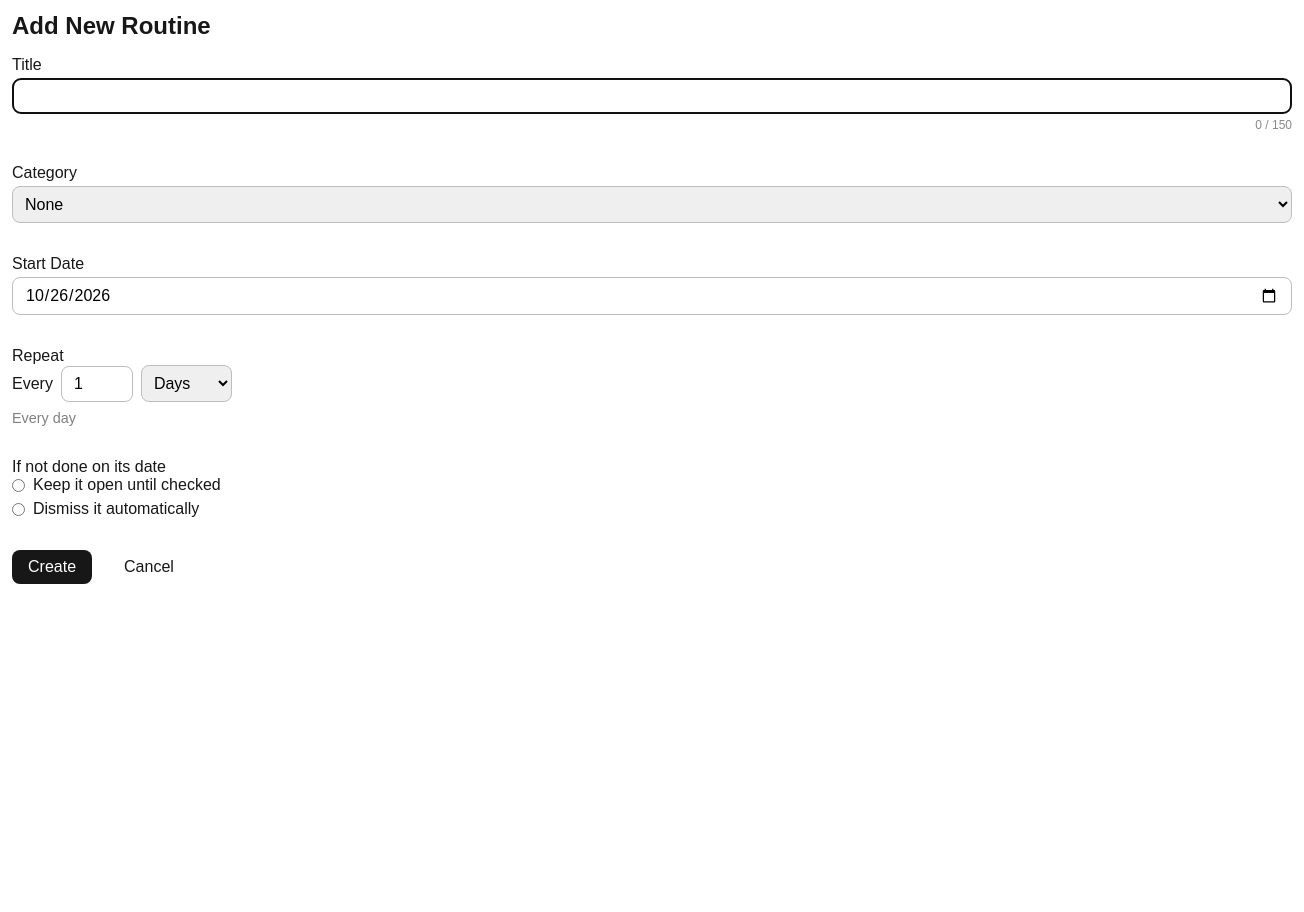
Scenario: RoutineForm › shows the clamp note for a monthly custom day after the 28th
Select "Months" in the dropdown named "Unit" at coordinates (186, 384), box left=141, top=365, right=232, bottom=402
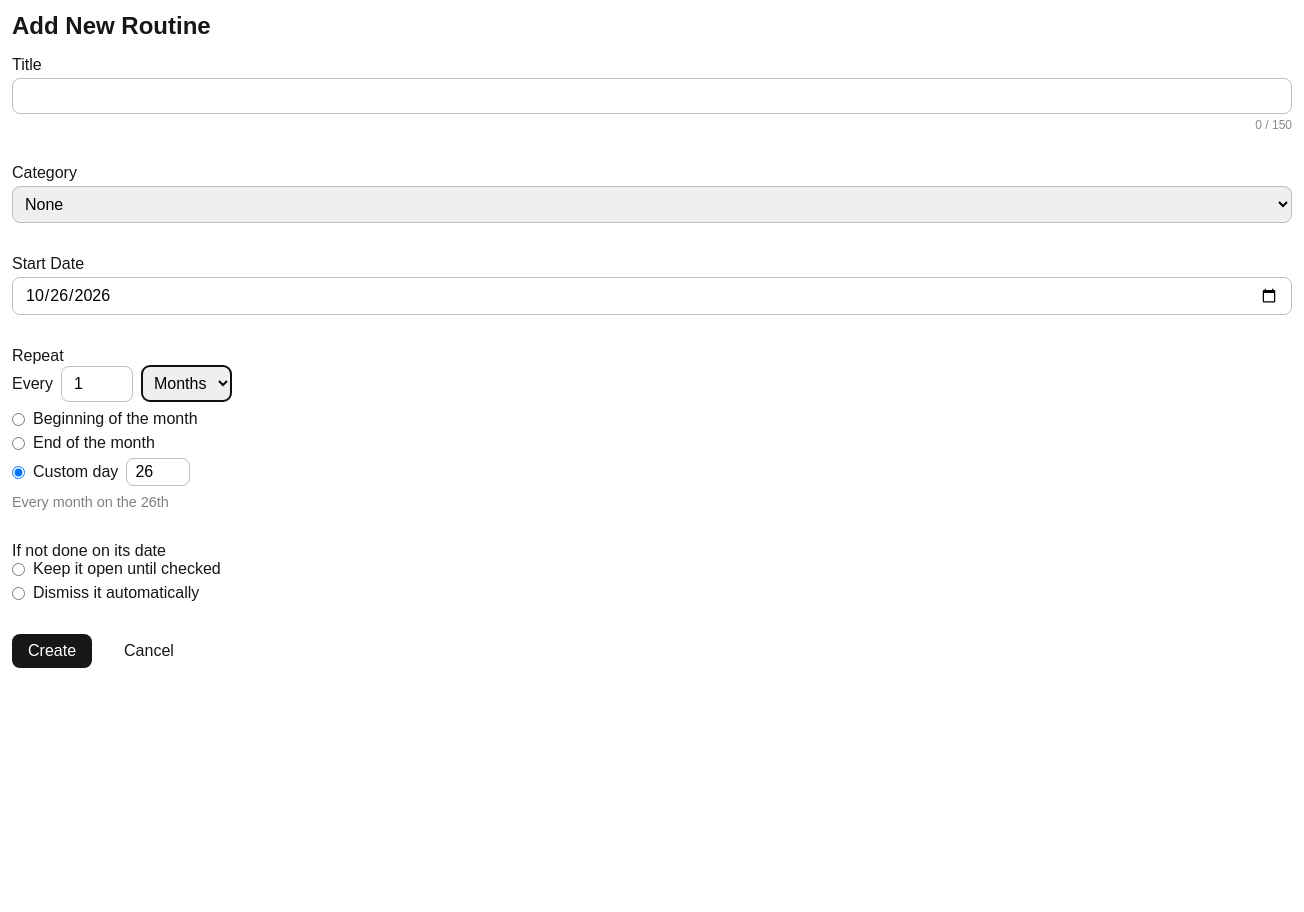
Click the radio button labelled "Custom day".
click(18, 472)  # box left=12, top=466, right=25, bottom=478
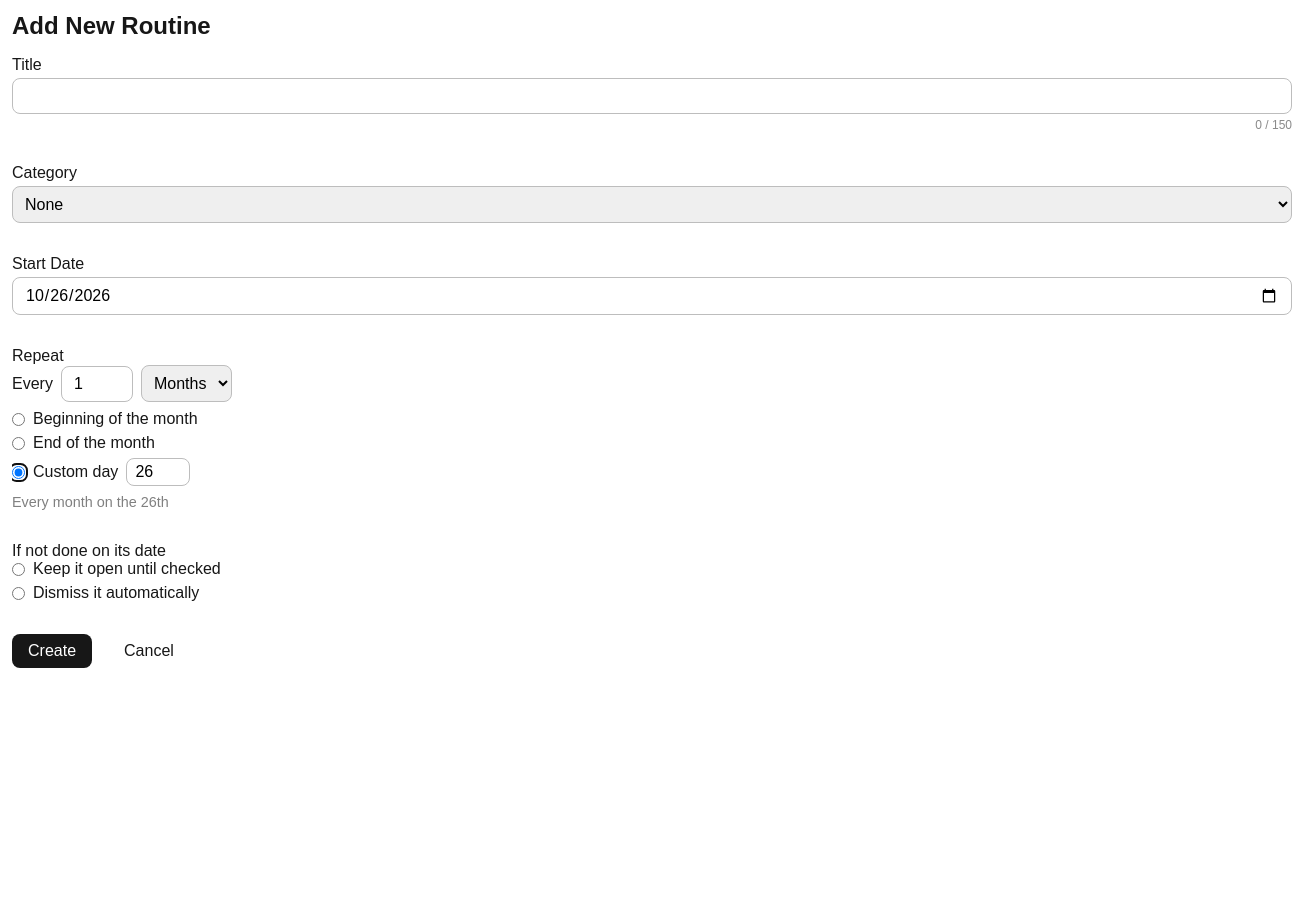
Replace the text in the number field named "Day of month" with "30" at coordinates (158, 472), box left=126, top=458, right=190, bottom=486
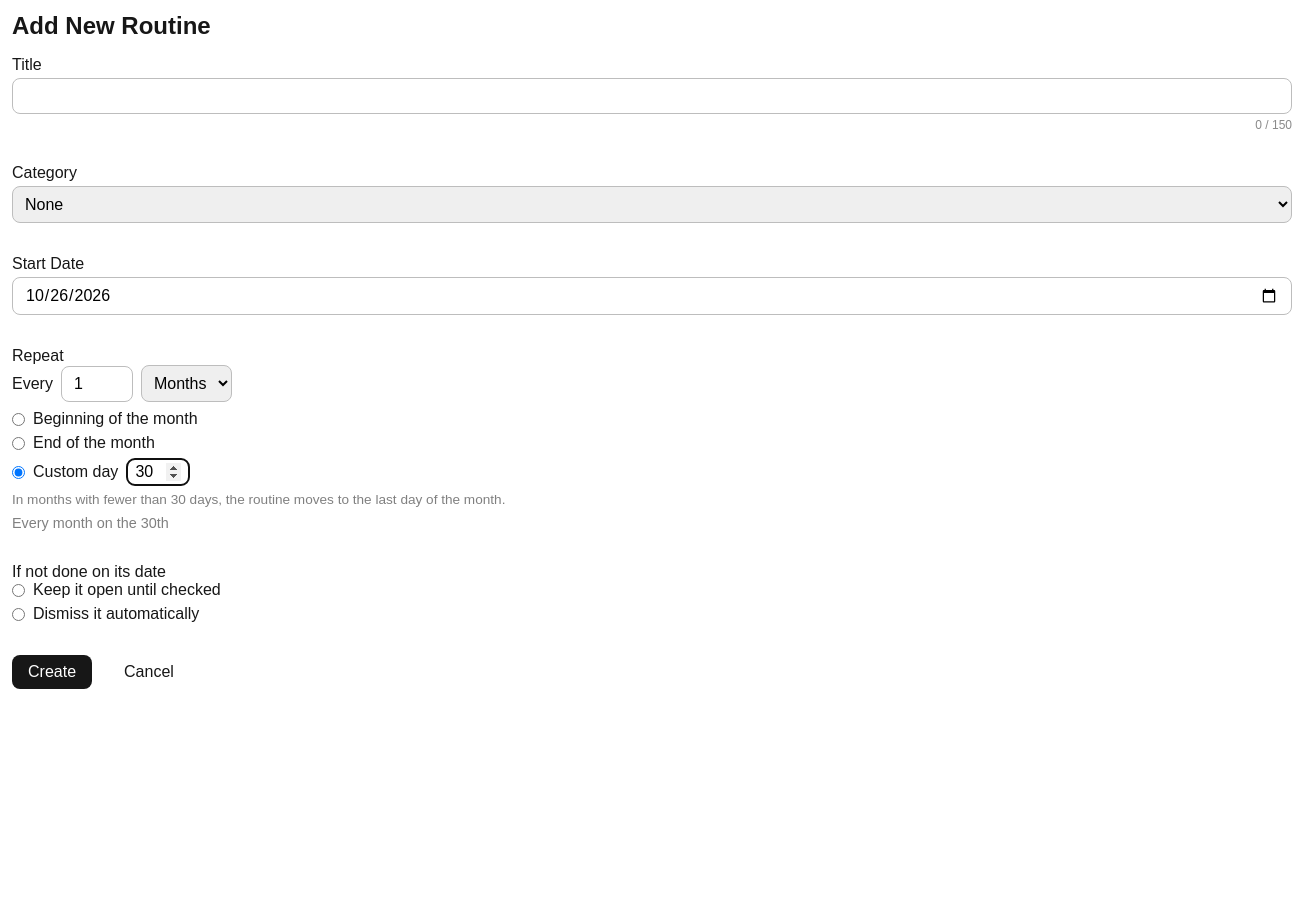
Expected: the text "In months with fewer than 30 days" is shown, left=12, top=492, right=505, bottom=507
Expected: the text "Every month on the 30th" is shown, left=12, top=515, right=169, bottom=531
